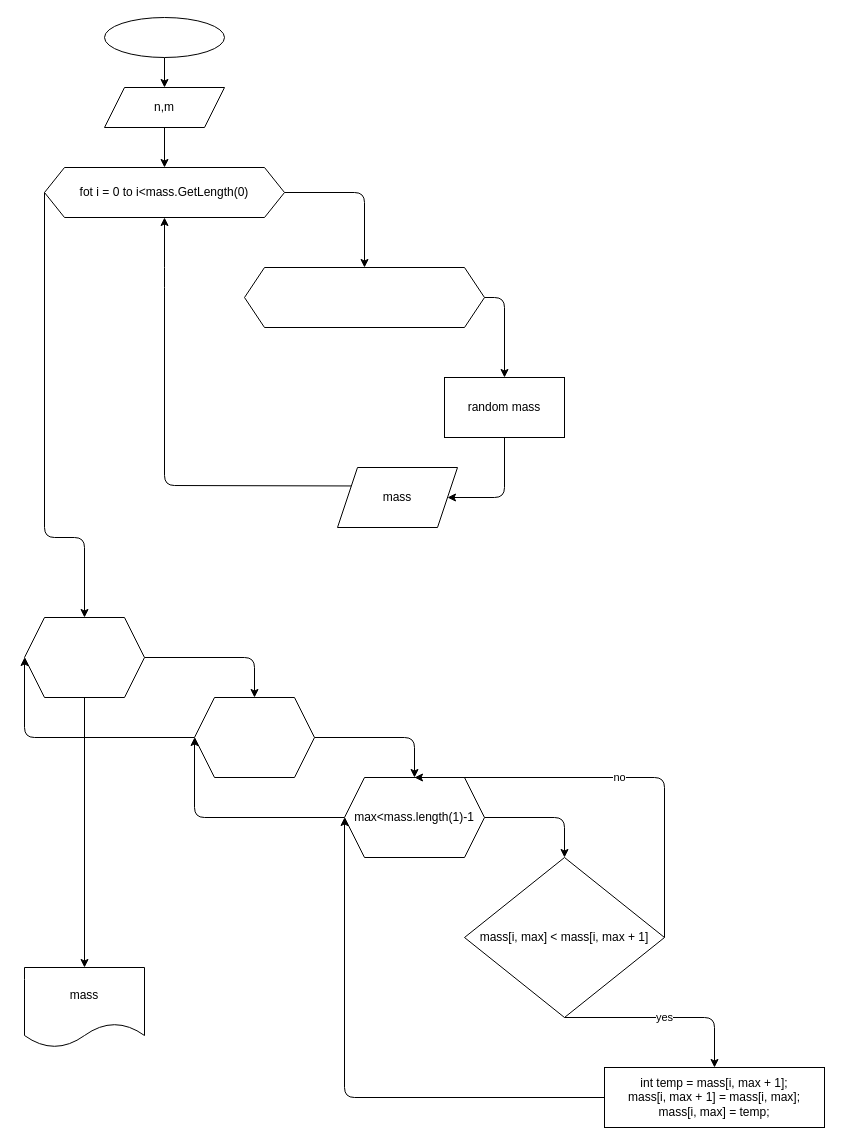
Image size: 842x1145. Some labels were removed from this diagram. The centre of each missing label's shape, as x and y in pixels:
"fot j = 0 to j<mass.GetLength(1)" goes at point (364, 297).
"i<mass.length(0)" goes at point (84, 657).
"j<mass.length(1)" goes at point (254, 737).
"start" goes at point (164, 37).
